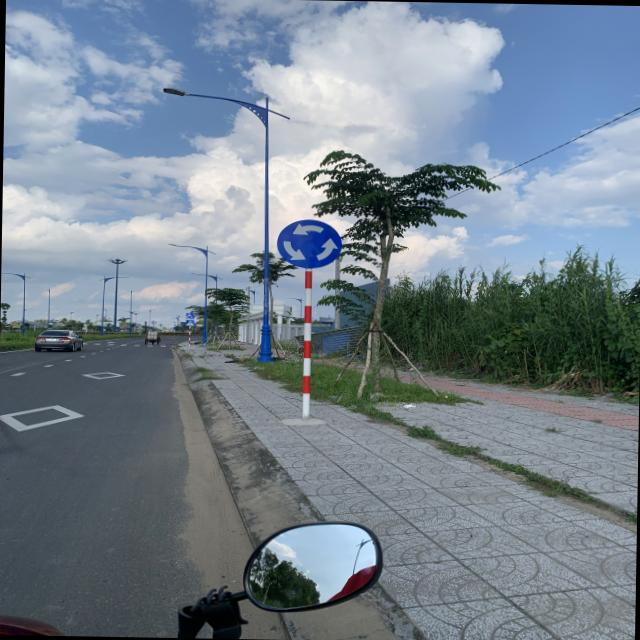Xe_Bus: (276, 218, 344, 268)
